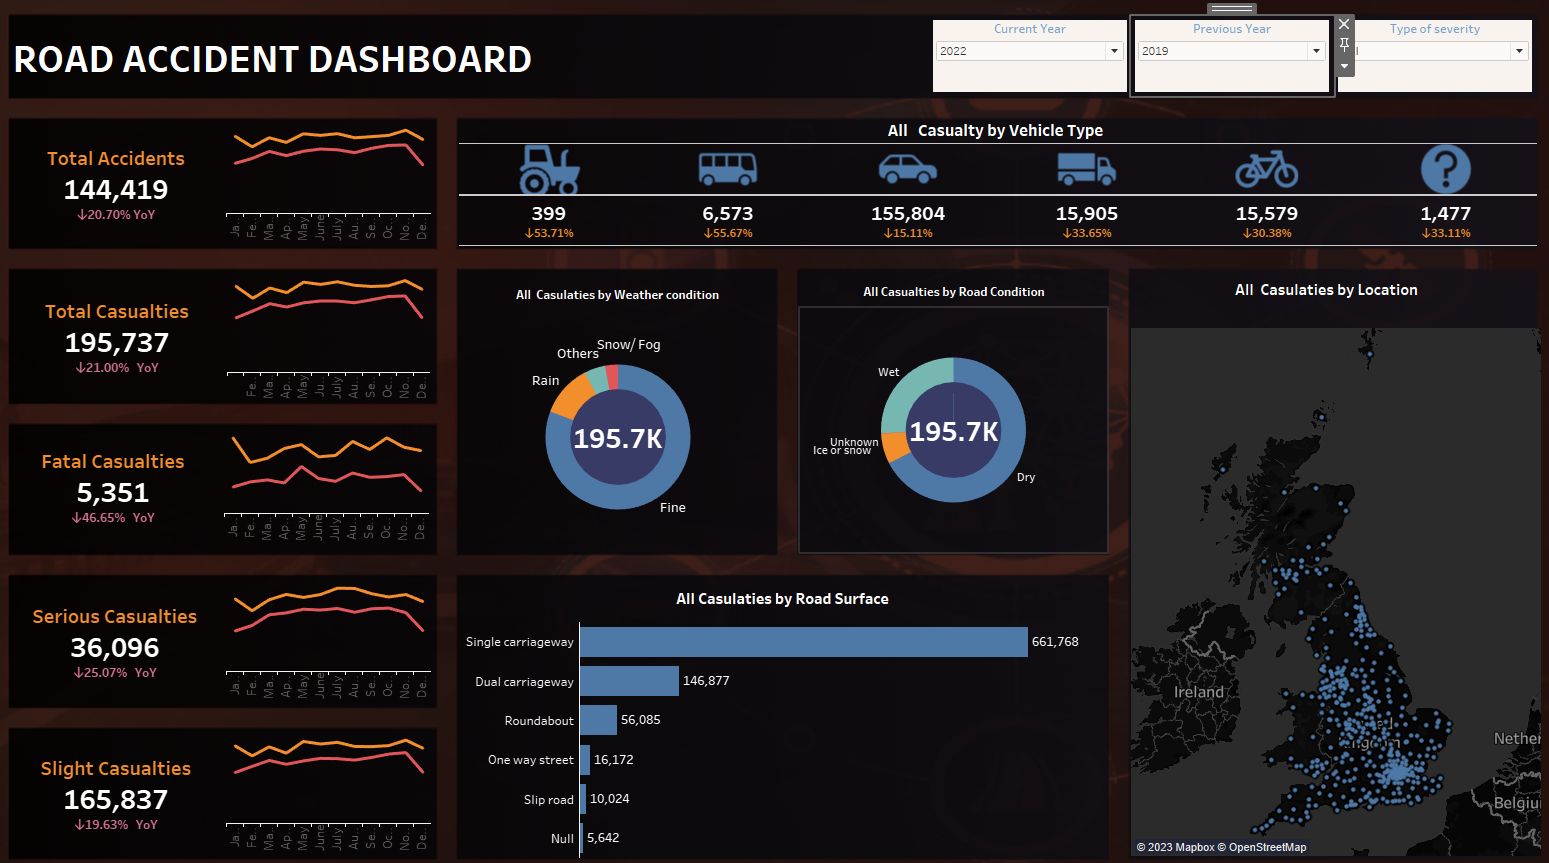

Layout of this report page (visuals, bound fields, positions):
{"tool":"tableau","page":{"name":"Dashboard 1","canvas":[1600,900],"ordinal":0},"visuals":[{"type":"image","param":"C:/Users/Vinod Jha/Downloads/Captures.png","box":[8,8,1584,884]},{"type":"parameter","param":"[Parameters].[Parameter 1]","box":[952,29,202.3,80]},{"type":"parameter","param":"[Parameters].[Current Year (copy)_1127588818526273537]","box":[1154.3,29,202.3,80]},{"type":"parameter","param":"[Parameters].[Parameter 2]","box":[1356.7,29,202.3,80]},{"type":"text","box":[33,31,542,77]},{"type":"text","box":[476,126,1085,33]},{"type":"worksheet","title":"Total Accident","mark":"Automatic","box":[32,133,213,127]},{"type":"worksheet","title":"Accident Sparkline","mark":"Line","rows":["CY accidents (copy)_1127588818528518147","Calculation_1127588818527137794"],"cols":["Accident Date"],"box":[245,133,213,127]},{"type":"worksheet","title":"vehicle type images","mark":"Shape","box":[482,156,1078,52]},{"type":"worksheet","title":"VEHICLE TYPE","mark":"Automatic","box":[482,208,1078,51]},{"type":"worksheet","title":"Total Casualties","mark":"Automatic","box":[34,283,212,134]},{"type":"worksheet","title":"Total Casualties Sparkline","mark":"Line","rows":["CY Casualties (copy)_1127588818533900294","Calculation_1127588818533240837"],"cols":["Accident Date"],"box":[246,283,211,134]},{"type":"text","box":[480,284,316,46]},{"type":"text","box":[1157,287,385,30]},{"type":"text","box":[824,291,306,26]},{"type":"worksheet","title":"Road Surface Conditions","mark":"Pie","rows":["Calculation_1225260635720523777","Calculation_1225260635720572931"],"box":[823,321,307,244]},{"type":"worksheet","title":"Weather Conditions","mark":"Pie","rows":["Calculation_1225260635720523777","Calculation_1225260635720572931"],"box":[485,331,312,238]},{"type":"worksheet","title":"Casualties By Location","mark":"Automatic","rows":["Latitude"],"cols":["Longitude"],"box":[1154,341,410,528]},{"type":"worksheet","title":"Fatal Casulaties","mark":"Automatic","box":[29,441,214,118]},{"type":"worksheet","title":"Total Fatality Sparkline ","mark":"Line","rows":["Calculation_1127588818536497160","PY Fatal Casualties (copy)_1127588818538119179"],"cols":["Accident Date"],"box":[243,441,213,118]},{"type":"worksheet","title":"Serious Casulaties","mark":"Automatic","box":[32,591,213,127]},{"type":"worksheet","title":"Total Serious Casualties Sparkline","mark":"Line","rows":["PY Fatal Casualties (copy)_1127588818540277773","CY Fatal Casualties  (copy)_1127588818540138508"],"cols":["Accident Date"],"box":[245,591,213,127]},{"type":"text","box":[485,595,641,32]},{"type":"worksheet","title":"Casualties on Road Type","mark":"Automatic","rows":["Road_Type"],"cols":["Number_of_Casualties"],"box":[482,635,646,236]},{"type":"worksheet","title":"Slight Casulaties","mark":"Automatic","box":[32,743,213,127]},{"type":"worksheet","title":"Total Slight Casualties Sparkline (2)","mark":"Line","rows":["PY Serious Casualties (copy)_1127588818541658127","CY Serious Casualties  (copy)_1127588818541961232"],"cols":["Accident Date"],"box":[245,743,213,127]}]}

Visuals, with their boxes in screenshot pixels (x1, y1, x2, y2), scaled from the page's 1600x900 canvas onto the 1549x863 screenshot:
image: crop(8, 8, 1541, 855)
parameter: crop(922, 28, 1118, 105)
parameter: crop(1118, 28, 1313, 105)
parameter: crop(1313, 28, 1509, 105)
text: crop(32, 30, 557, 104)
text: crop(461, 121, 1511, 152)
"Total Accident" worksheet: crop(31, 128, 237, 249)
"Accident Sparkline" worksheet (Line marks): crop(237, 128, 443, 249)
"vehicle type images" worksheet (Shape marks): crop(467, 150, 1510, 199)
"VEHICLE TYPE" worksheet: crop(467, 199, 1510, 248)
"Total Casualties" worksheet: crop(33, 271, 238, 400)
"Total Casualties Sparkline" worksheet (Line marks): crop(238, 271, 442, 400)
text: crop(465, 272, 771, 316)
text: crop(1120, 275, 1493, 304)
text: crop(798, 279, 1094, 304)
"Road Surface Conditions" worksheet (Pie marks): crop(797, 308, 1094, 542)
"Weather Conditions" worksheet (Pie marks): crop(470, 317, 772, 546)
"Casualties By Location" worksheet: crop(1117, 327, 1514, 833)
"Fatal Casulaties" worksheet: crop(28, 423, 235, 536)
"Total Fatality Sparkline " worksheet (Line marks): crop(235, 423, 441, 536)
"Serious Casulaties" worksheet: crop(31, 567, 237, 688)
"Total Serious Casualties Sparkline" worksheet (Line marks): crop(237, 567, 443, 688)
text: crop(470, 571, 1090, 601)
"Casualties on Road Type" worksheet: crop(467, 609, 1092, 835)
"Slight Casulaties" worksheet: crop(31, 712, 237, 834)
"Total Slight Casualties Sparkline (2)" worksheet (Line marks): crop(237, 712, 443, 834)
